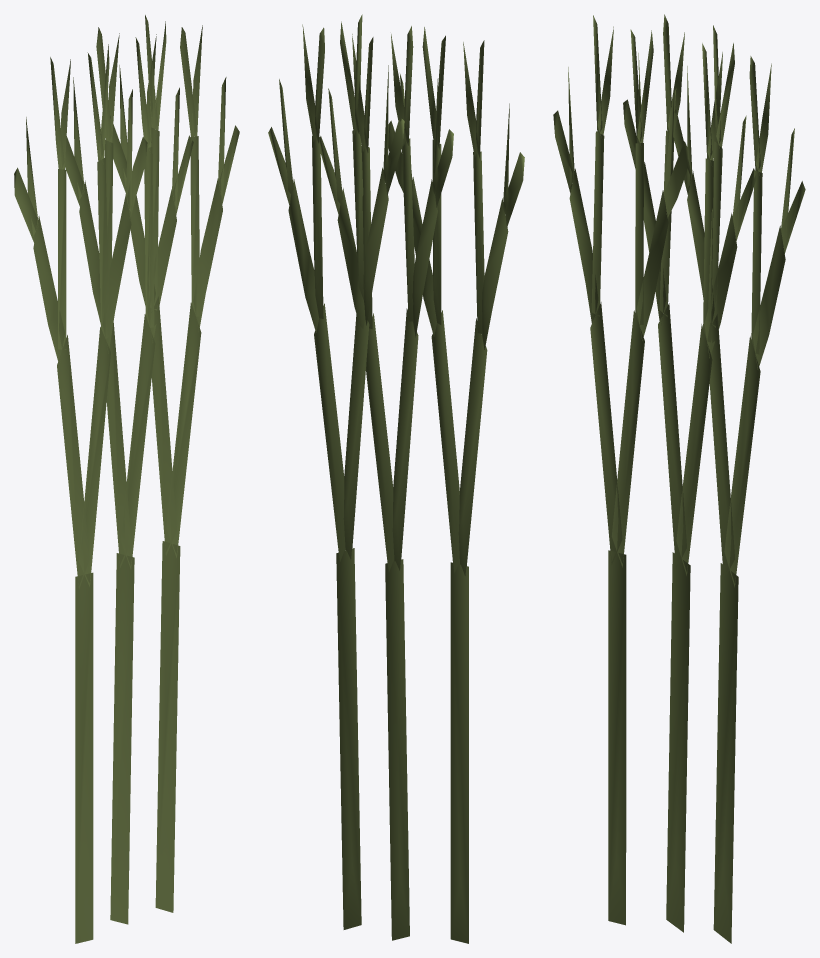
File: devonian-algal-clump.lod1.glb
The picture shows the model from 3 angles, left to right: view 1: azimuth 30°, elevation 25°; view 2: azimuth 150°, elevation 25°; view 3: azimuth 330°, elevation 25°; orthographic projection. The views are drawn at different scales.
Visible parts, largest first — view 1: devonian-algal-clump; view 2: devonian-algal-clump; view 3: devonian-algal-clump.
Boxes of the visible parts, left/top/right/bottom form: devonian-algal-clump: left=14, top=15, right=239, bottom=943; devonian-algal-clump: left=268, top=14, right=524, bottom=943; devonian-algal-clump: left=553, top=14, right=805, bottom=943.
Size of the model in its own units: 0.4966 by 1.8 by 0.0653.
